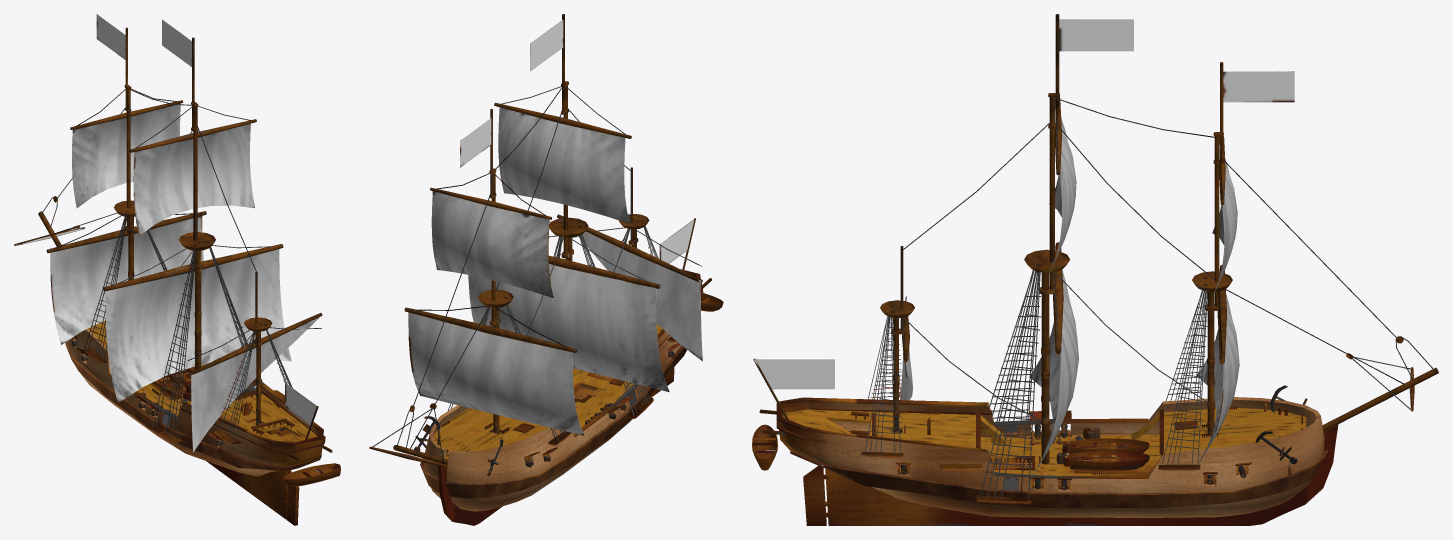
File: 2017+tex.FBX
The picture shows the model from 3 angles, left to right: view 1: azimuth 30°, elevation 25°; view 2: azimuth 150°, elevation 25°; view 3: azimuth 270°, elevation 25°; orthographic projection. The views are drawn at different scales.
Visible parts, largest first — view 1: Корабль; view 2: Корабль; view 3: Корабль.
Boxes of the visible parts, x1,y1,x2,y2 form: Корабль: (14, 14, 340, 525); Корабль: (369, 14, 723, 525); Корабль: (752, 14, 1438, 525).
Size of the model in its own units: 95.53 by 212 by 259.
Materials: 1 (1 with a texture image).
